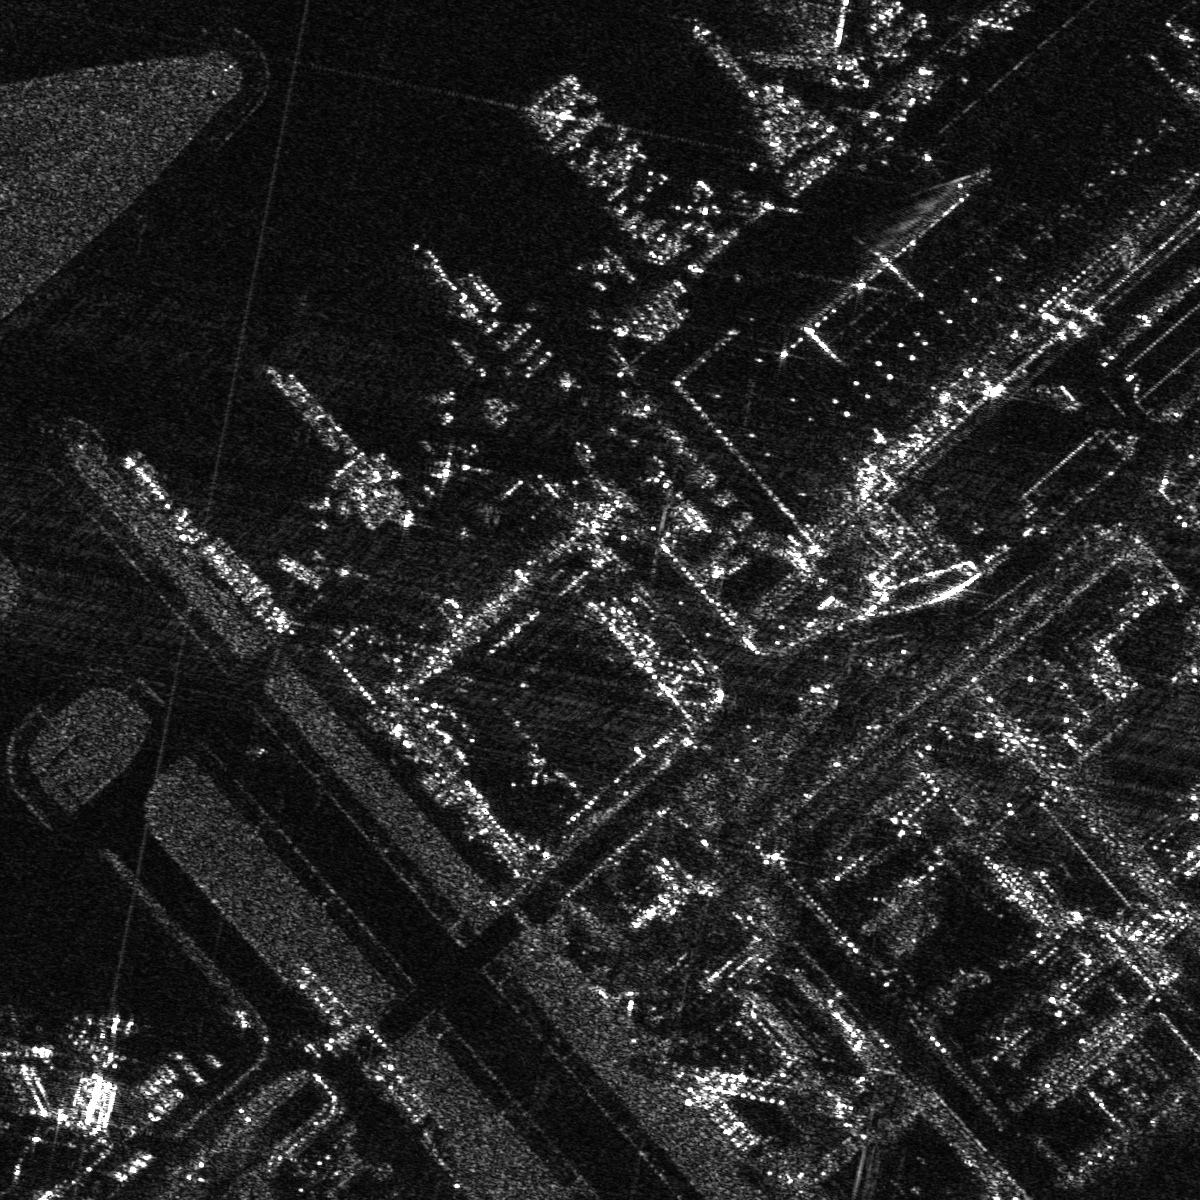Boeing737: (1, 1001, 57, 1070)
Boeing787: (69, 1003, 154, 1073)
